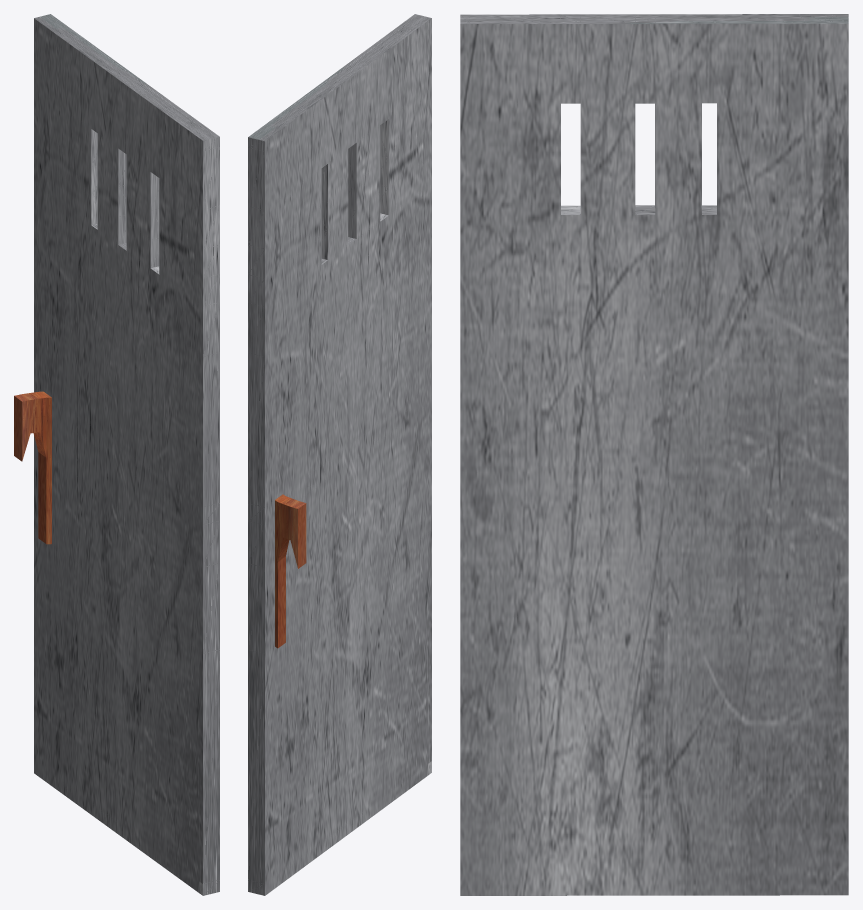
Rendered from puerta metal definitiva.fbx.
3 views of the same model, side by side, from view 1: azimuth 30°, elevation 25°; view 2: azimuth 150°, elevation 25°; view 3: azimuth 270°, elevation 25° (orthographic). The views are drawn at different scales.
Parts seen in each view (by area): view 1: trabajo_:Puerta; view 2: trabajo_:Puerta; view 3: trabajo_:Puerta.
Part boxes in pixels (left/top/right/bottom): trabajo_:Puerta: left=14, top=14, right=219, bottom=895; trabajo_:Puerta: left=248, top=14, right=431, bottom=895; trabajo_:Puerta: left=460, top=14, right=848, bottom=895.
Bounding box in the file's own units: 0.0979 × 1.59 × 0.6406.
